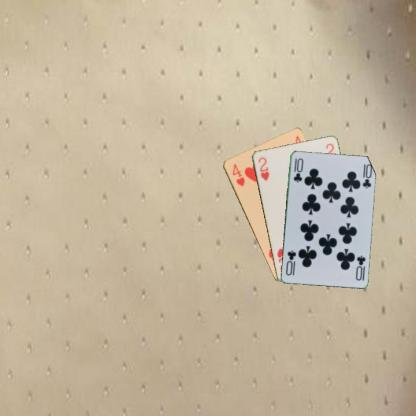10c: (290, 155, 304, 184), (353, 252, 366, 282)
2h: (256, 155, 270, 181)
4h: (230, 161, 246, 188)
